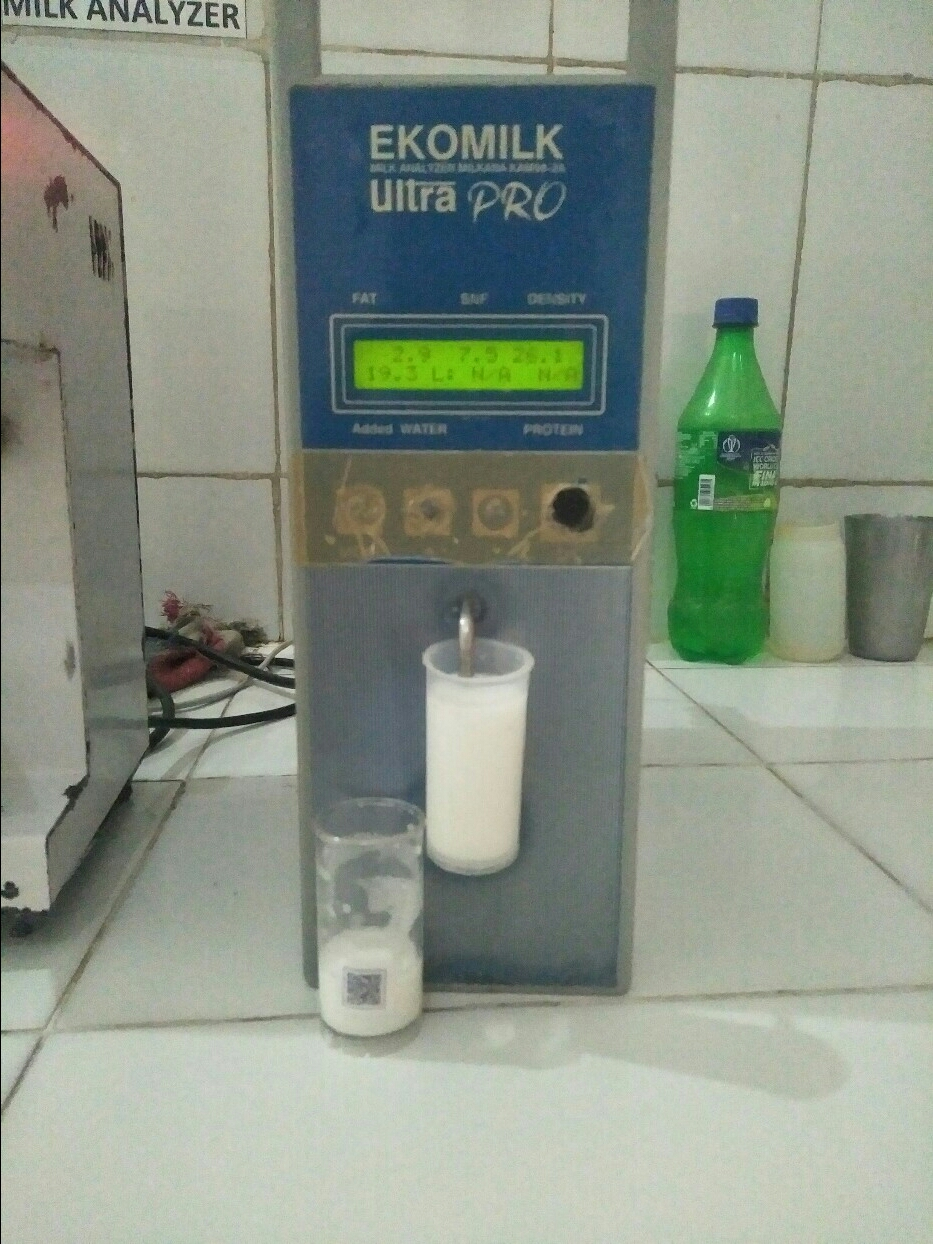lcd: (342, 329, 607, 408)
qr: (341, 957, 386, 1012)
